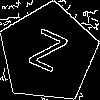Z: (23, 28, 69, 82)
